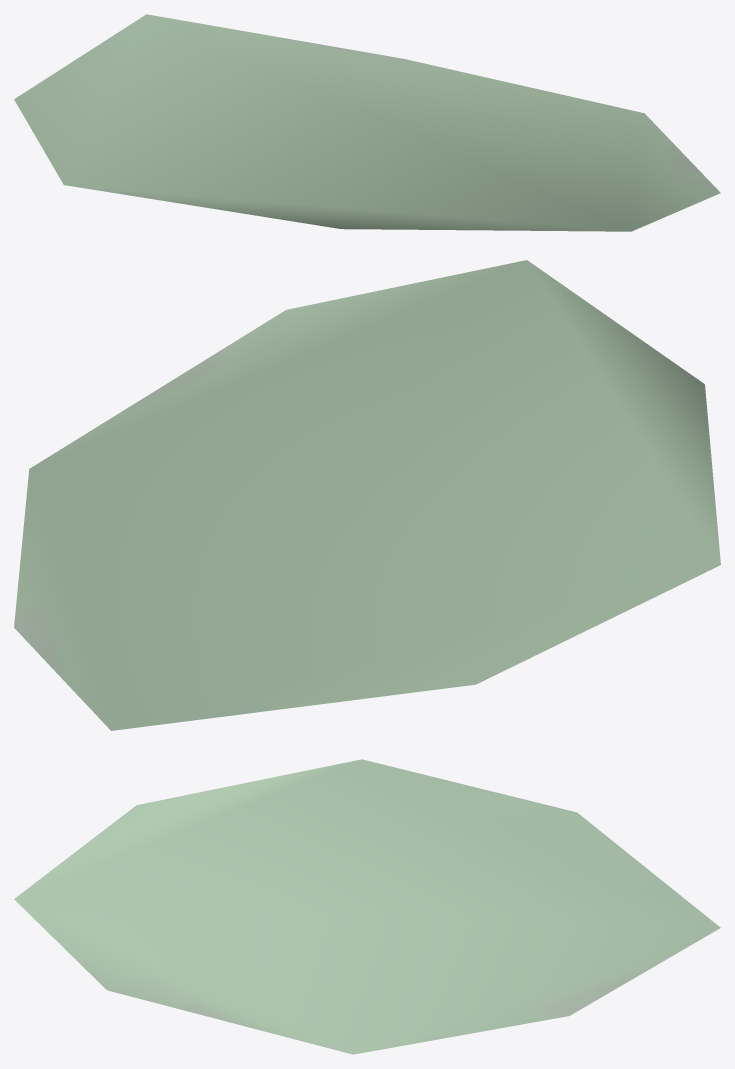
The model's file is TROLLHOLE02_HOLECAP170.fbx.
3 renders of one model, top to bottom at view 1: azimuth 30°, elevation 25°; view 2: azimuth 150°, elevation 25°; view 3: azimuth 270°, elevation 25°, orthographic. The views are drawn at different scales.
Parts seen in each view (by area): view 1: TROLLHOLE02_HOLECAP170; view 2: TROLLHOLE02_HOLECAP170; view 3: TROLLHOLE02_HOLECAP170.
Boxes of the visible parts, box(x1,y1,x2,y2) form: TROLLHOLE02_HOLECAP170: box(14, 14, 720, 231); TROLLHOLE02_HOLECAP170: box(14, 260, 720, 730); TROLLHOLE02_HOLECAP170: box(14, 759, 720, 1054).
Bounding box in the file's own units: 20471 × 3142 × 25492.
1 material, 1 textured.
